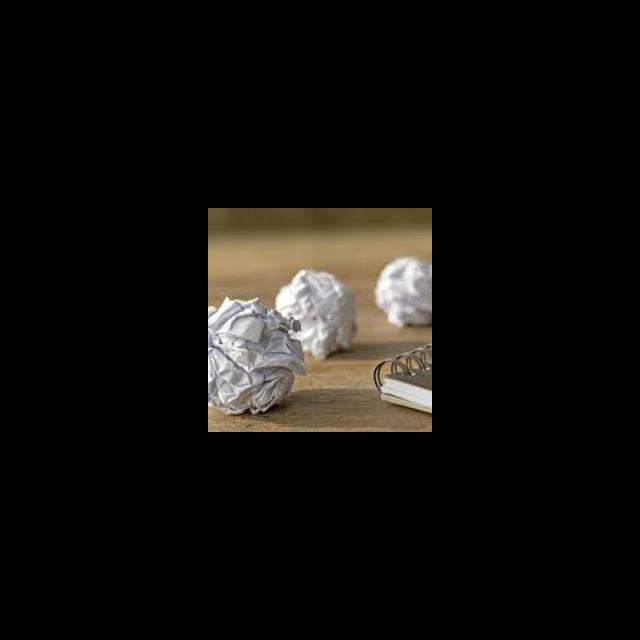paper: (208, 293, 307, 420), (273, 261, 365, 361), (379, 347, 432, 419)
